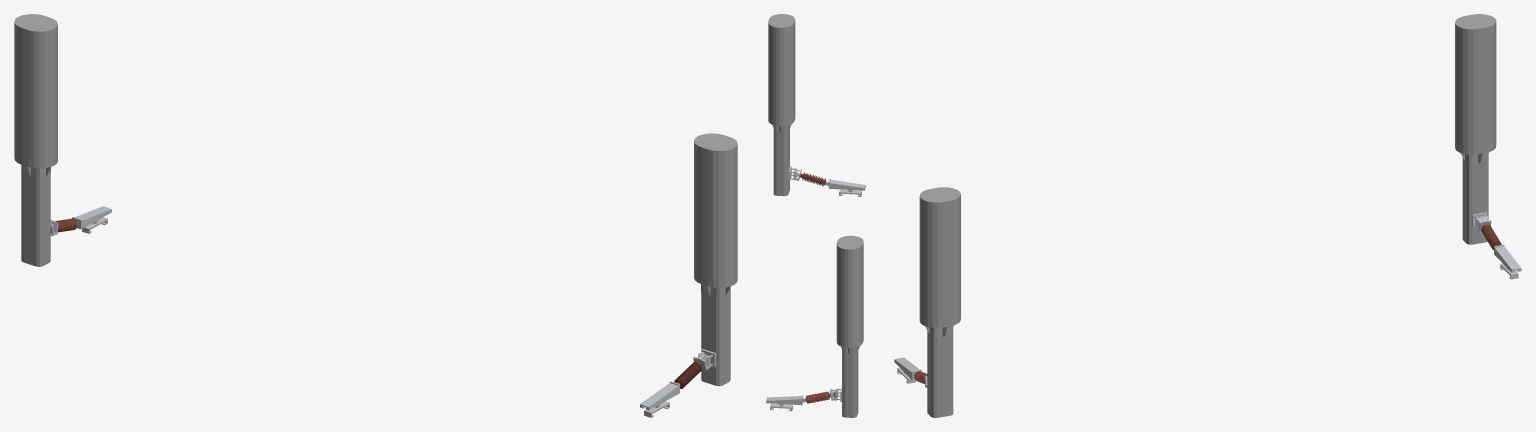
Rendered from catenary_rigid_0d_225d_hs.obj.
3 views of the same model, side by side, from view 1: azimuth 30°, elevation 25°; view 2: azimuth 150°, elevation 25°; view 3: azimuth 270°, elevation 25° (orthographic). The views are drawn at different scales.
Parts seen in each view (by area): view 1: 1.002, 1.001; view 2: 1.001, 1.002; view 3: 1.001, 1.002.
Part boxes in pixels (x1,y1,x2,y2): 1.002: (640,133,737,417); 1.001: (14,14,111,266); 1.001: (766,235,863,417); 1.002: (768,14,865,196); 1.001: (1455,14,1521,279); 1.002: (894,187,960,417).
Bounding box in the file's own units: 3.35 × 1.8 × 4.7.
2 materials, 2 textured.
